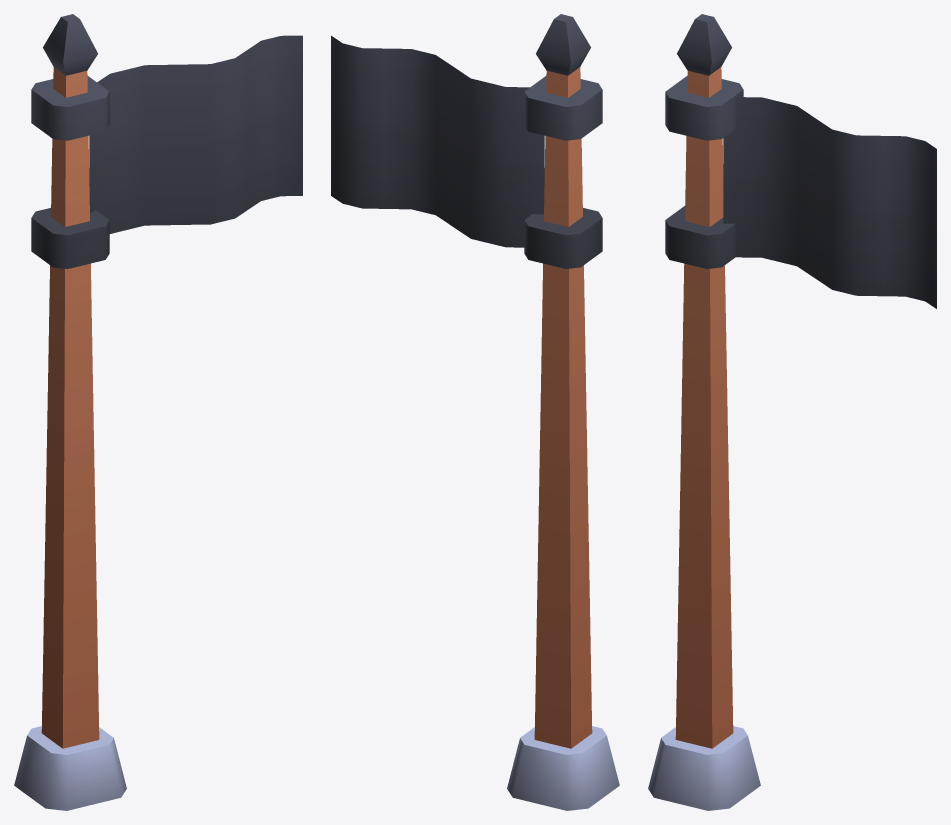
The model's file is flag-pirate-high.glb.
3 views of the same model, side by side, from view 1: azimuth 30°, elevation 25°; view 2: azimuth 150°, elevation 25°; view 3: azimuth 330°, elevation 25° (orthographic).
Parts seen in each view (by area): view 1: flag-pirate-high; view 2: flag-pirate-high; view 3: flag-pirate-high.
Part boxes in pixels (<box>): flag-pirate-high: <box>14,14,302,810</box>; flag-pirate-high: <box>331,14,619,810</box>; flag-pirate-high: <box>648,14,936,810</box>.
Size of the model in its own units: 1.34 by 3.6 by 0.3987.
Materials: 1 (1 with a texture image).
